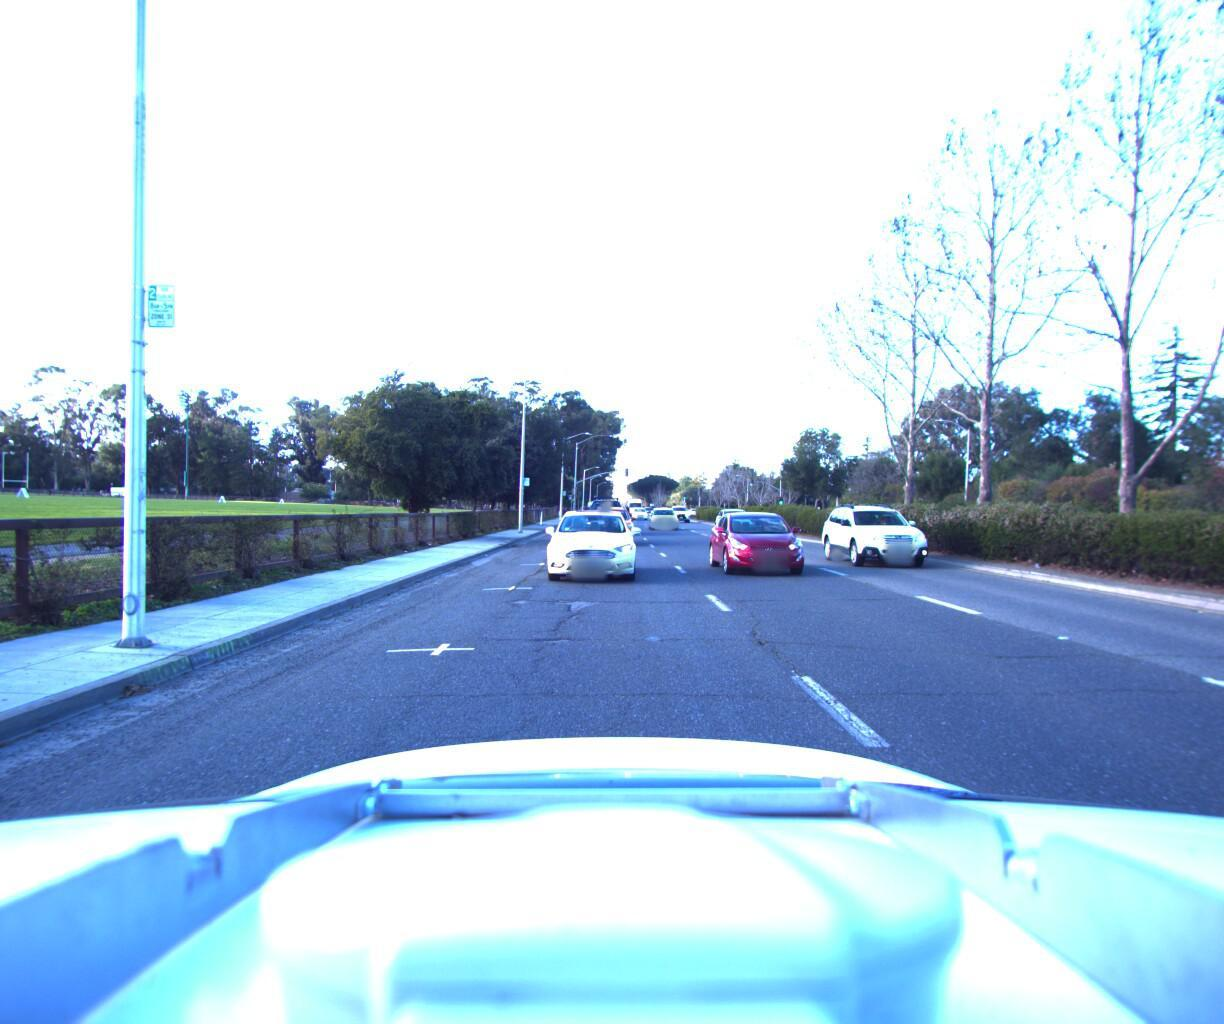car: (830, 493, 959, 571), (711, 504, 828, 582), (539, 500, 637, 580), (588, 500, 635, 542), (590, 484, 626, 529), (713, 503, 754, 532), (650, 501, 682, 526), (668, 499, 693, 519)
